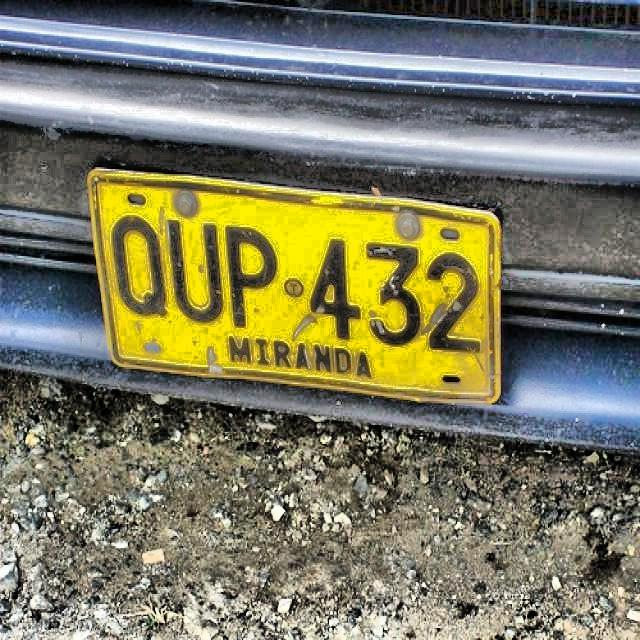plate: (92, 174, 495, 400)
